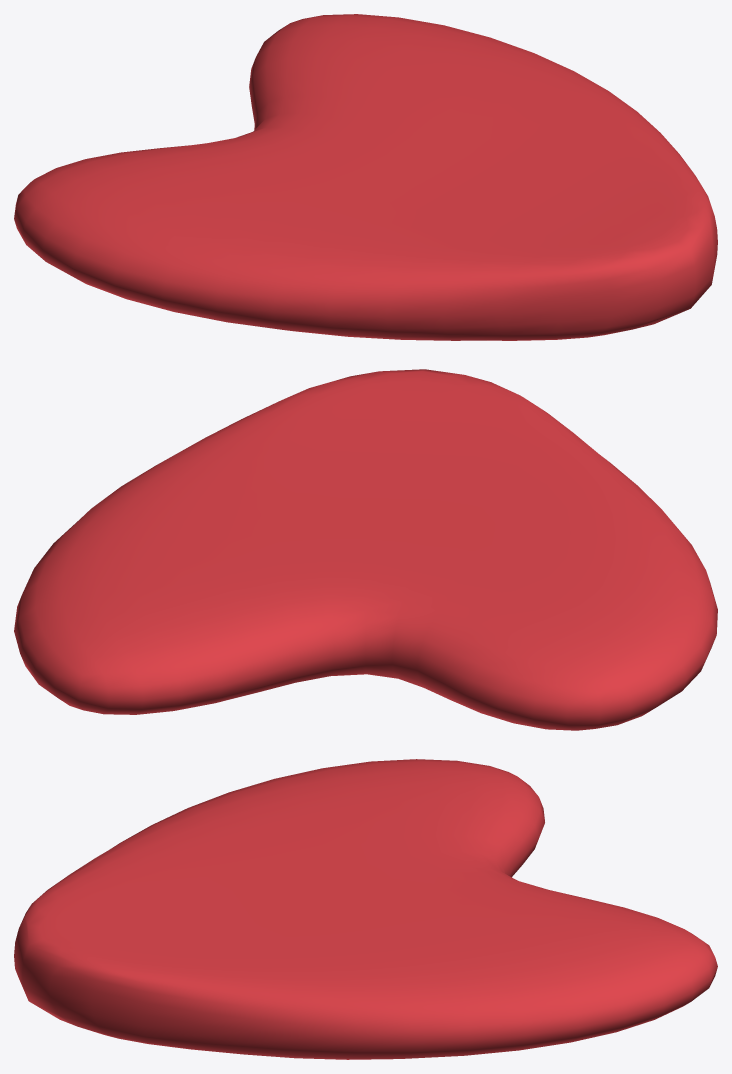
Rendered from Asset_redBlanket.fbx.
3 renders of one model, top to bottom at view 1: azimuth 30°, elevation 25°; view 2: azimuth 150°, elevation 25°; view 3: azimuth 270°, elevation 25°, orthographic. The views are drawn at different scales.
Visible parts, largest first — view 1: Plane.009; view 2: Plane.009; view 3: Plane.009.
Part boxes in pixels (x1,y1,x2,y2): Plane.009: (14,14,717,340); Plane.009: (14,369,717,730); Plane.009: (14,759,717,1059).
Bounding box in the file's own units: 36.78 × 4.95 × 40.69.
